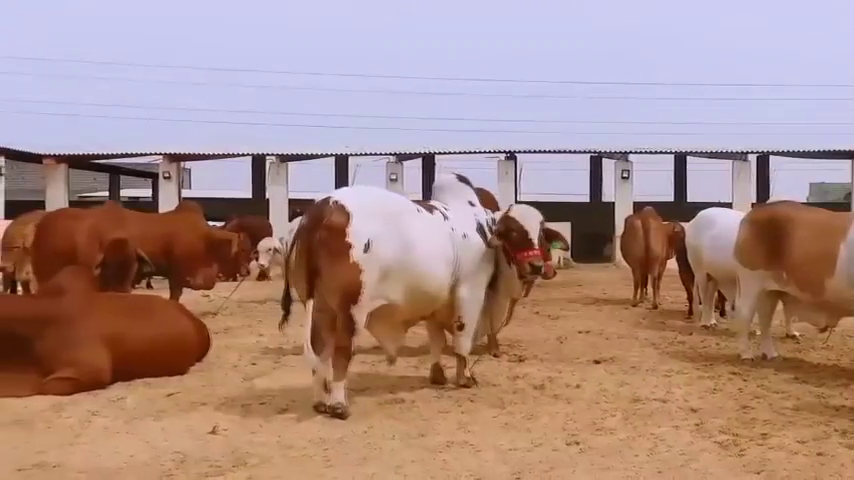bo: (285, 168, 576, 426), (2, 262, 235, 419), (733, 173, 854, 388), (119, 176, 252, 310), (16, 196, 157, 303), (682, 200, 755, 338), (608, 196, 690, 317), (246, 232, 284, 285)
